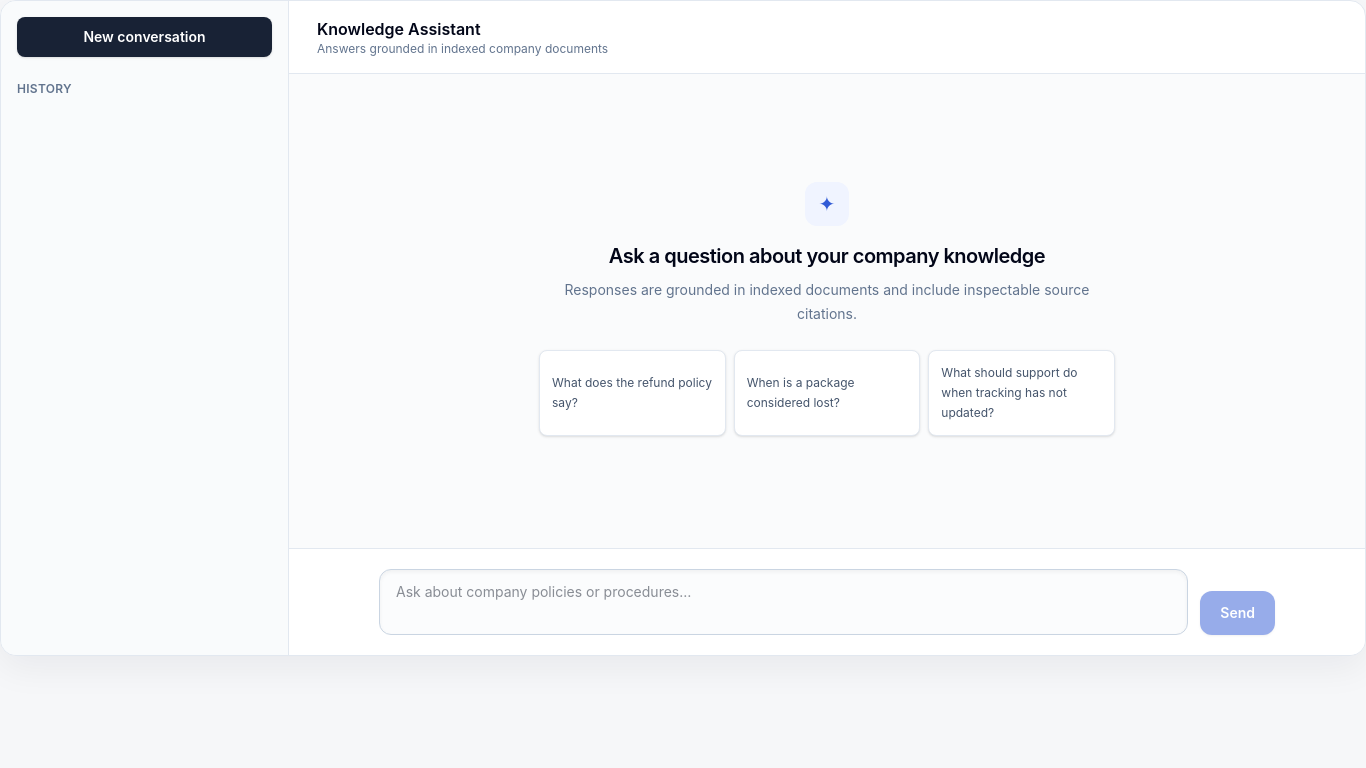
Test: AssistantWorkspace › shows an API error and restores the failed draft
In the text box named "Ask a question": (784, 602) [379,569,1188,635], type "What is the policy?"
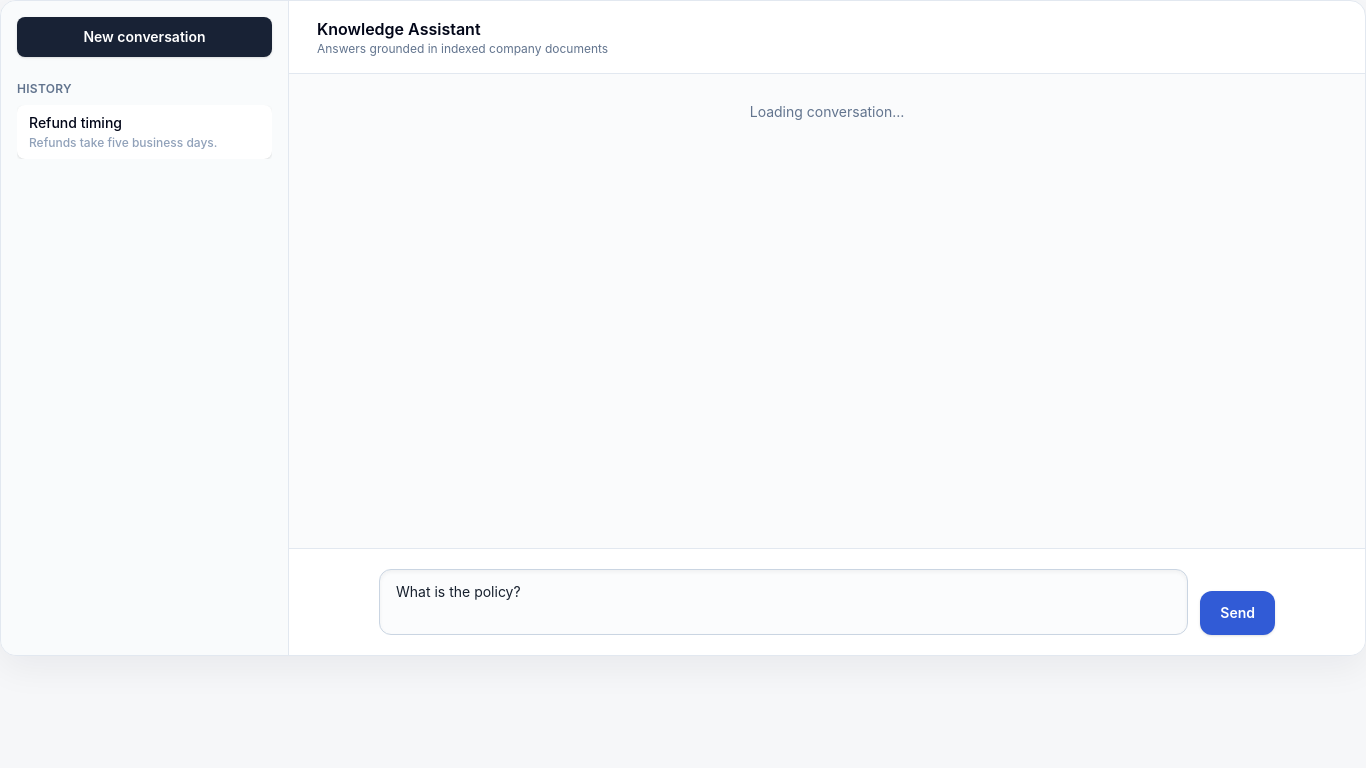
Click the button "Send": (1238, 613) [1200,591,1275,635]
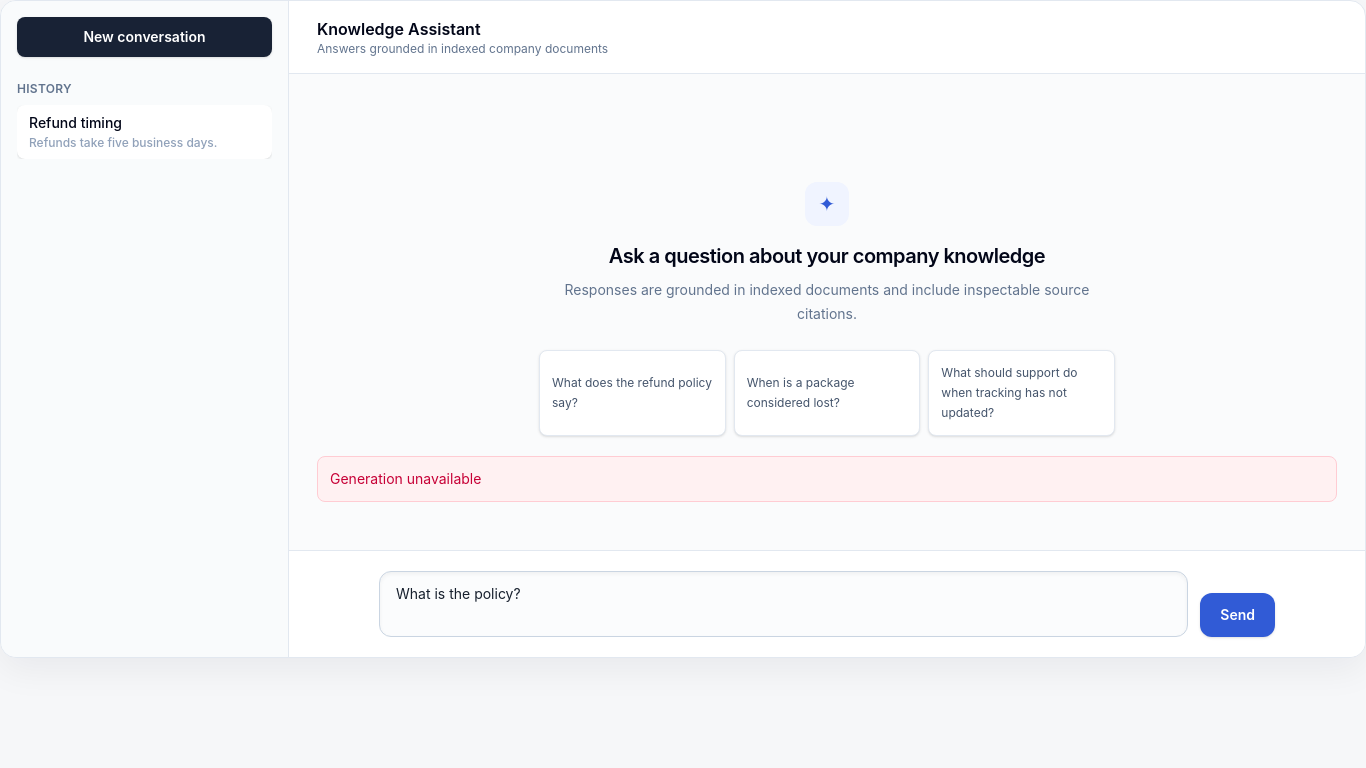
Expected: the message reads "Generation unavailable", [330,470,481,487]
